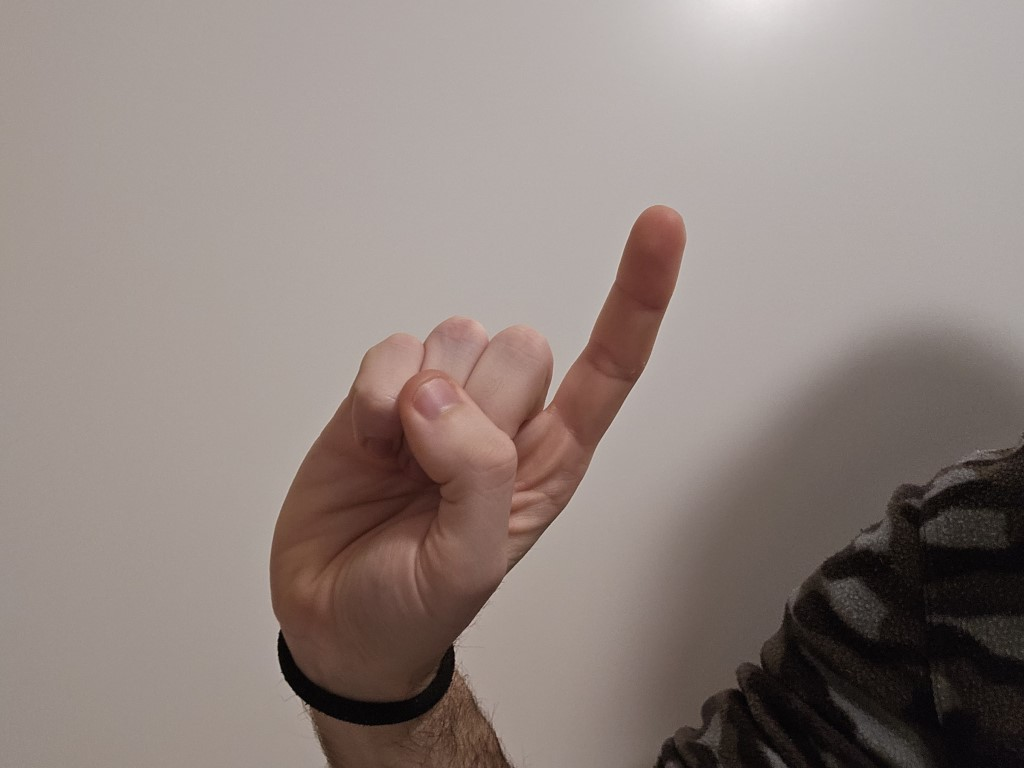z: (221, 171, 718, 666)
